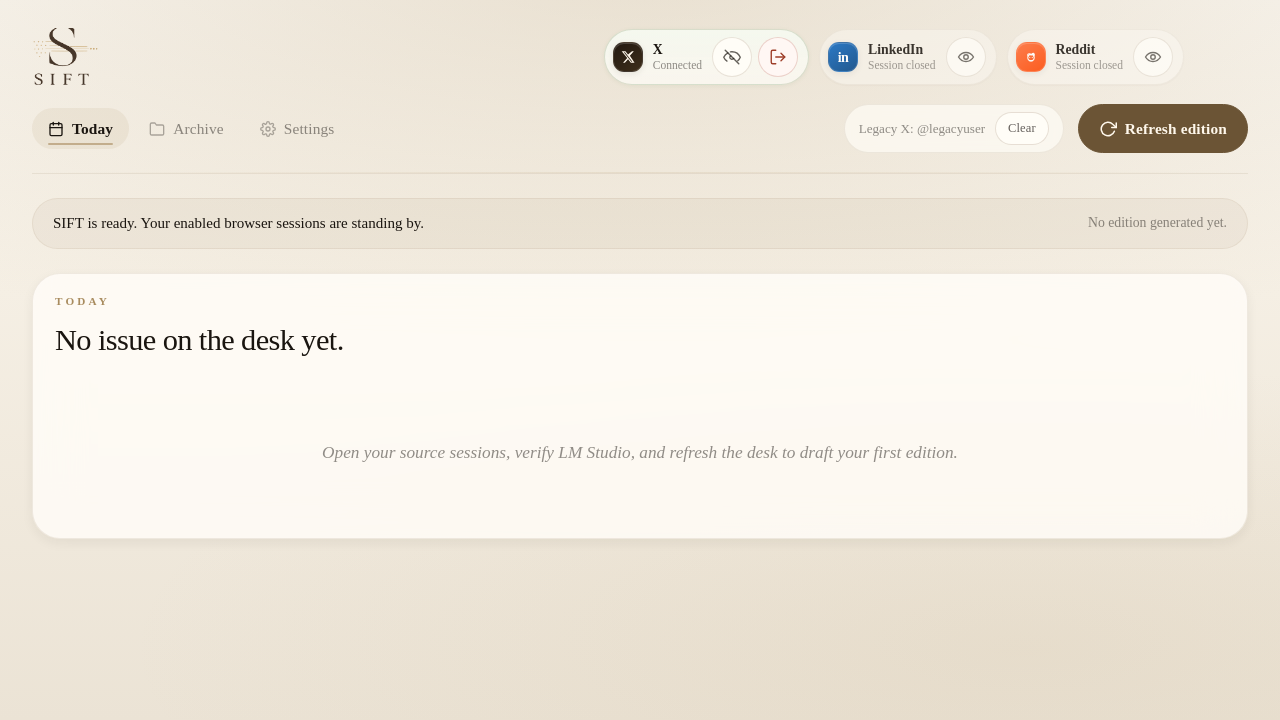
Test: App › can hide the X session window and clear a stored legacy connection
expect the text "SIFT is ready." is shown: met, box [53,215,424,231]
Click the button named "Hide X session" at (732, 57), box [712,37,752,77]
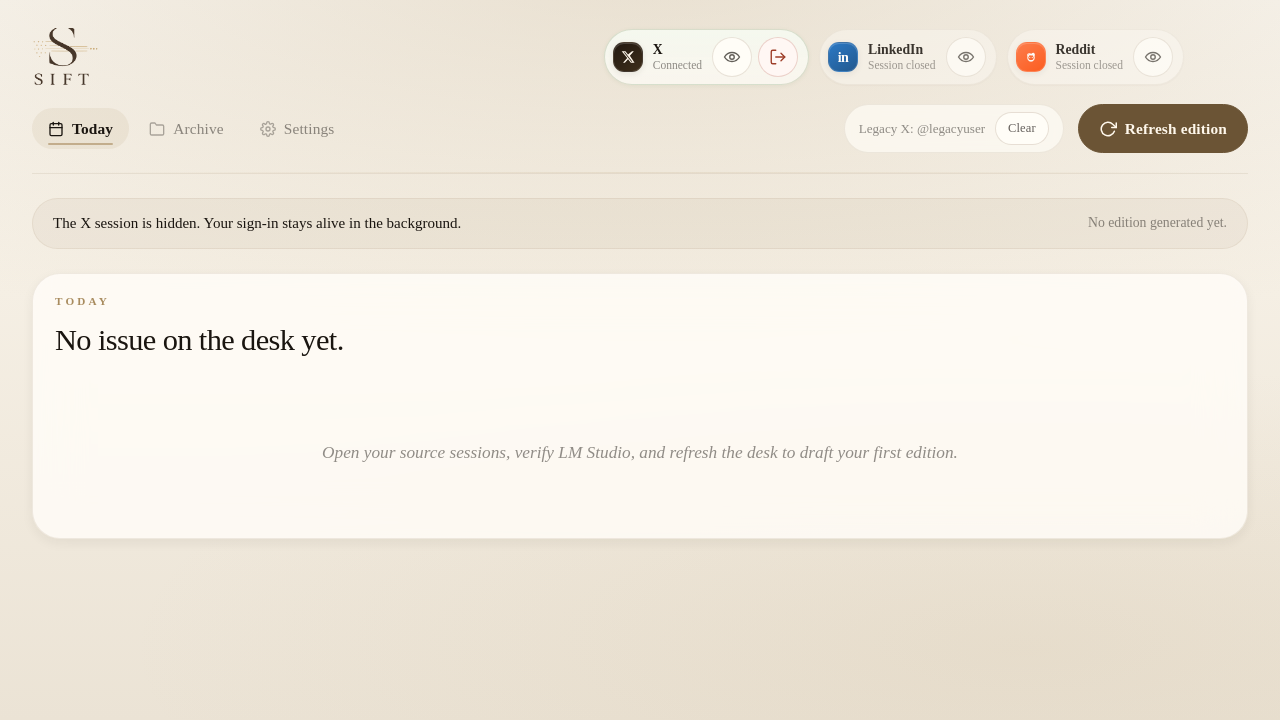
expect the text "The X session is hidden. Your sign-in stays alive in the background." is shown: met, box [53,211,461,236]
Click the button "Clear" at (1022, 129), box [995,112,1049,145]
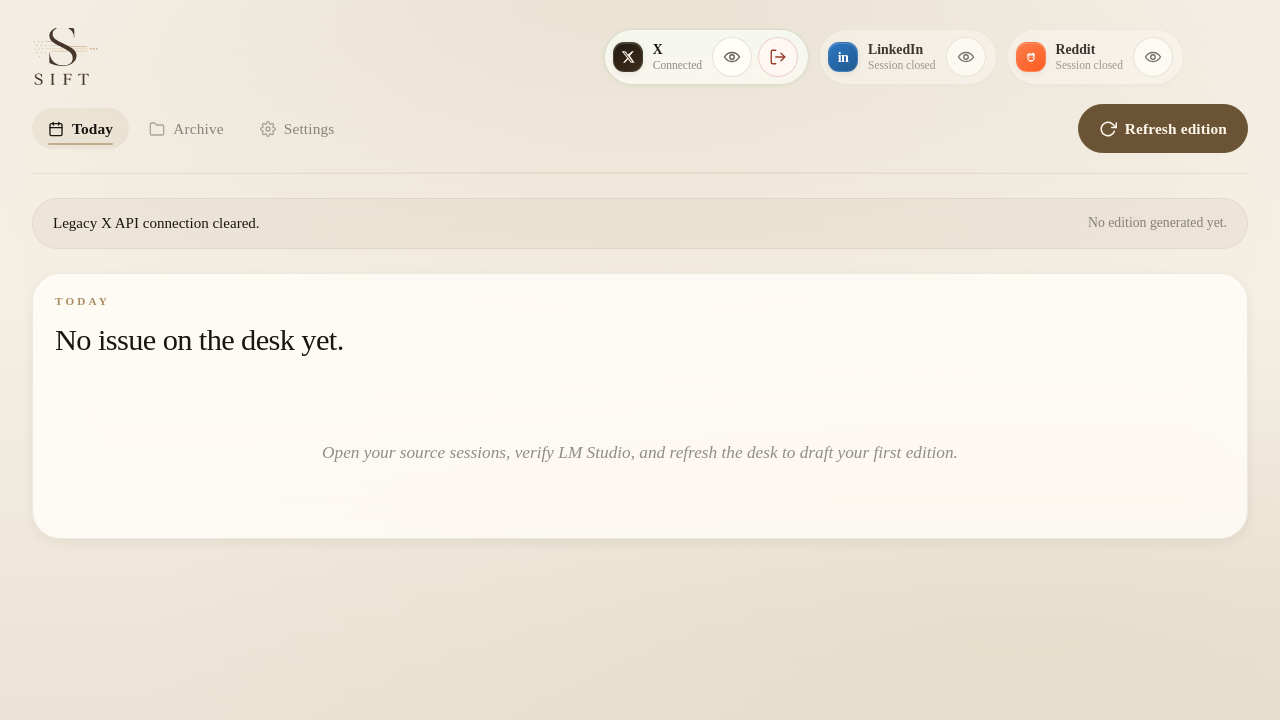
expect the text "Legacy X API connection cleared." is shown: met, box [53,211,260,236]
